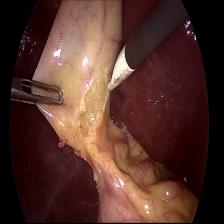Grasper: (12, 80, 64, 109)
Hook: (108, 43, 135, 104)
